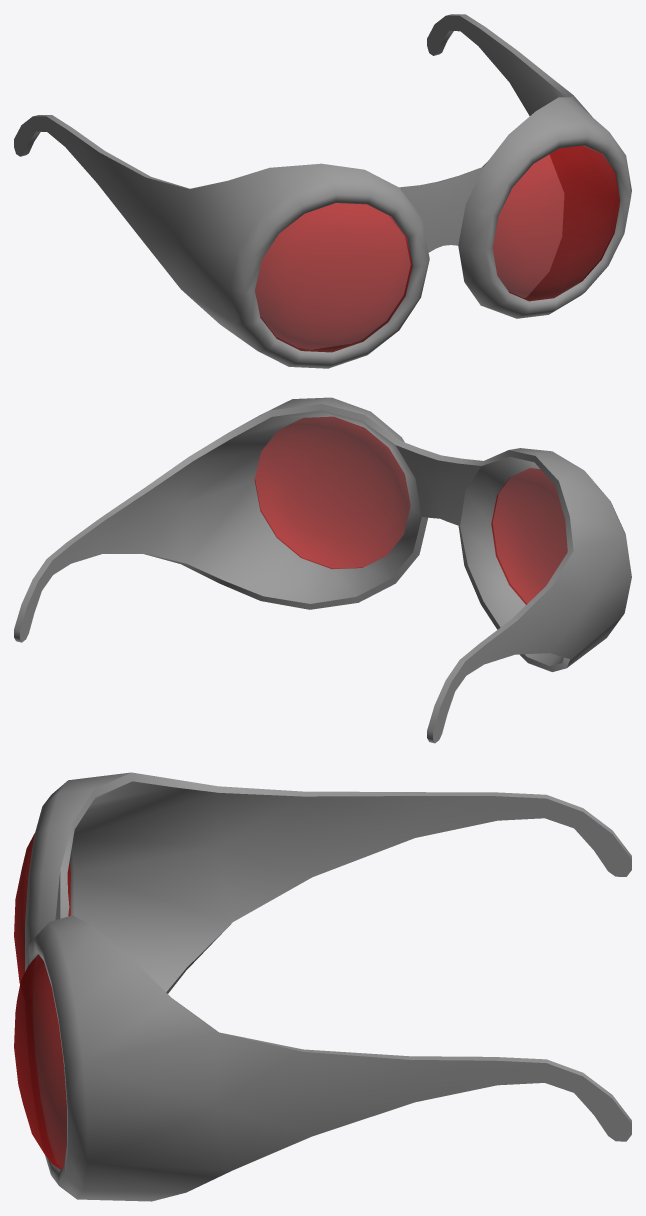
The model's file is WillyWonkaGoggles.fbx.
3 renders of one model, top to bottom at view 1: azimuth 30°, elevation 25°; view 2: azimuth 150°, elevation 25°; view 3: azimuth 270°, elevation 25°, orthographic. The views are drawn at different scales.
Parts seen in each view (by area): view 1: WillyWonkaGoggles; view 2: WillyWonkaGoggles; view 3: WillyWonkaGoggles.
Part boxes in pixels (x1,y1,x2,y2): WillyWonkaGoggles: (14,14,631,368); WillyWonkaGoggles: (14,397,631,743); WillyWonkaGoggles: (14,772,631,1201).
Bounding box in the file's own units: 71.02 × 32.29 × 69.12.
